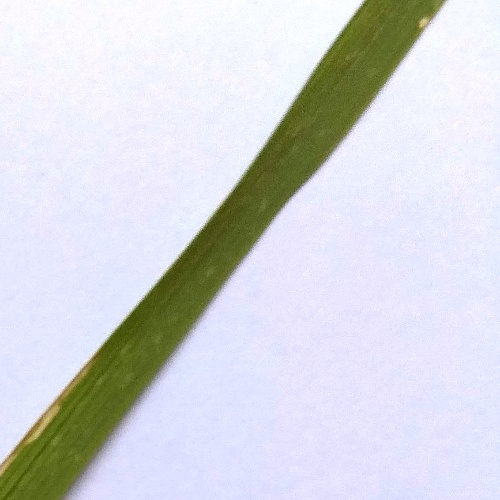Busuk Leher: (2, 434, 22, 472), (24, 416, 51, 443), (40, 389, 67, 416), (411, 13, 438, 33)
